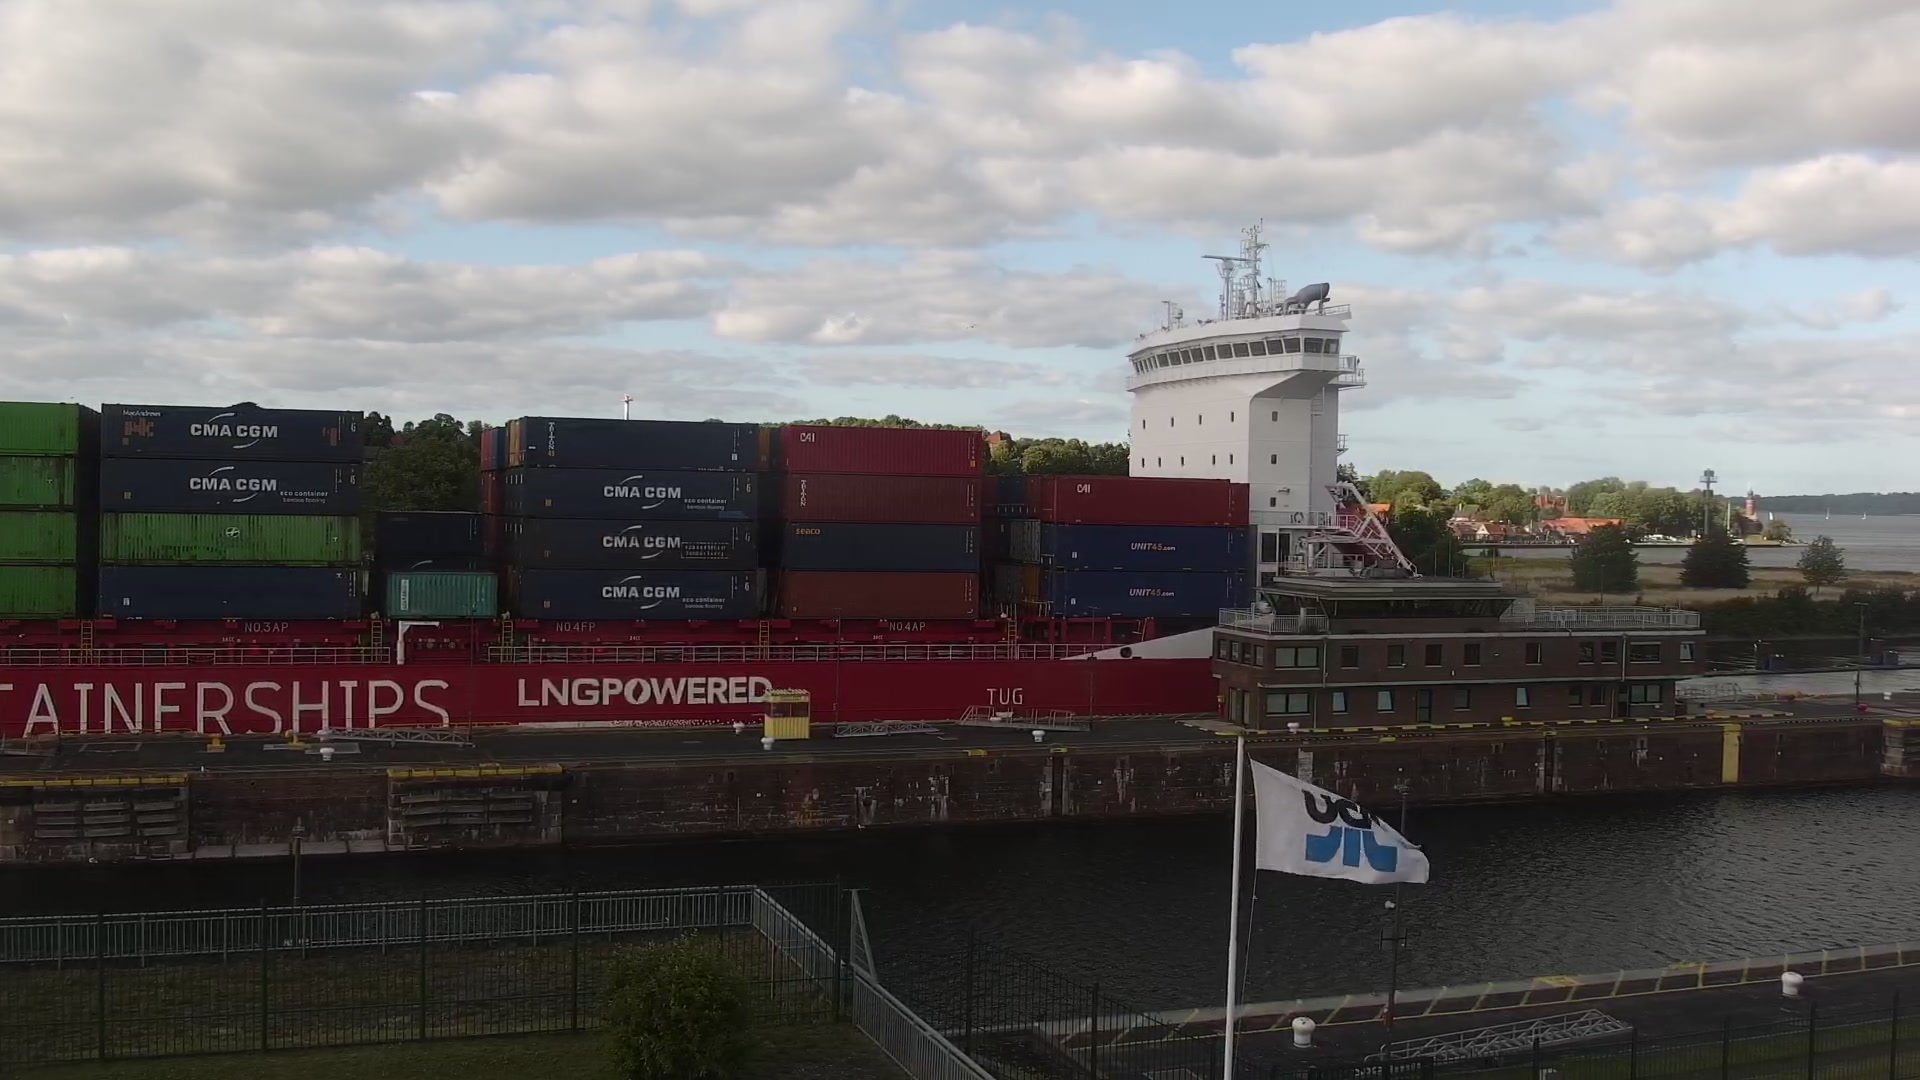sea: (1, 212, 1423, 737), (1825, 508, 1830, 521), (1862, 512, 1867, 521)
